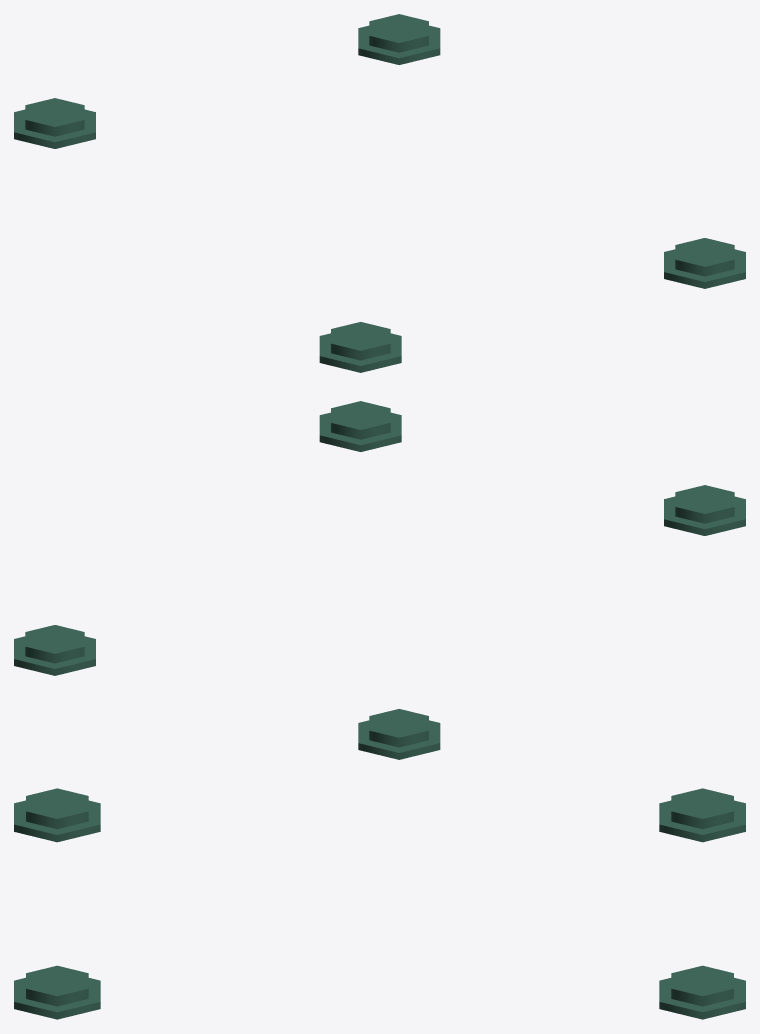
File: hangar2_mounts.obj
3 views of the same model, one above another, from view 1: azimuth 30°, elevation 25°; view 2: azimuth 150°, elevation 25°; view 3: azimuth 270°, elevation 25° (orthographic). The views are drawn at different scales.
Parts seen in each view (by area): view 1: hangar2_mounts; view 2: hangar2_mounts; view 3: hangar2_mounts.
Boxes of the visible parts, x1,y1,x2,y2 form: hangar2_mounts: (14, 14, 745, 372); hangar2_mounts: (14, 401, 745, 759); hangar2_mounts: (14, 788, 745, 1019).
Bounding box in the file's own units: 6.44 × 0.24 × 9.07.
